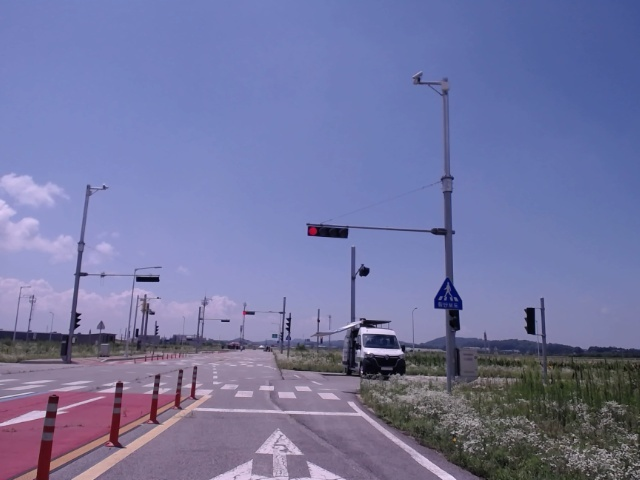red_4: (308, 226, 348, 238)
